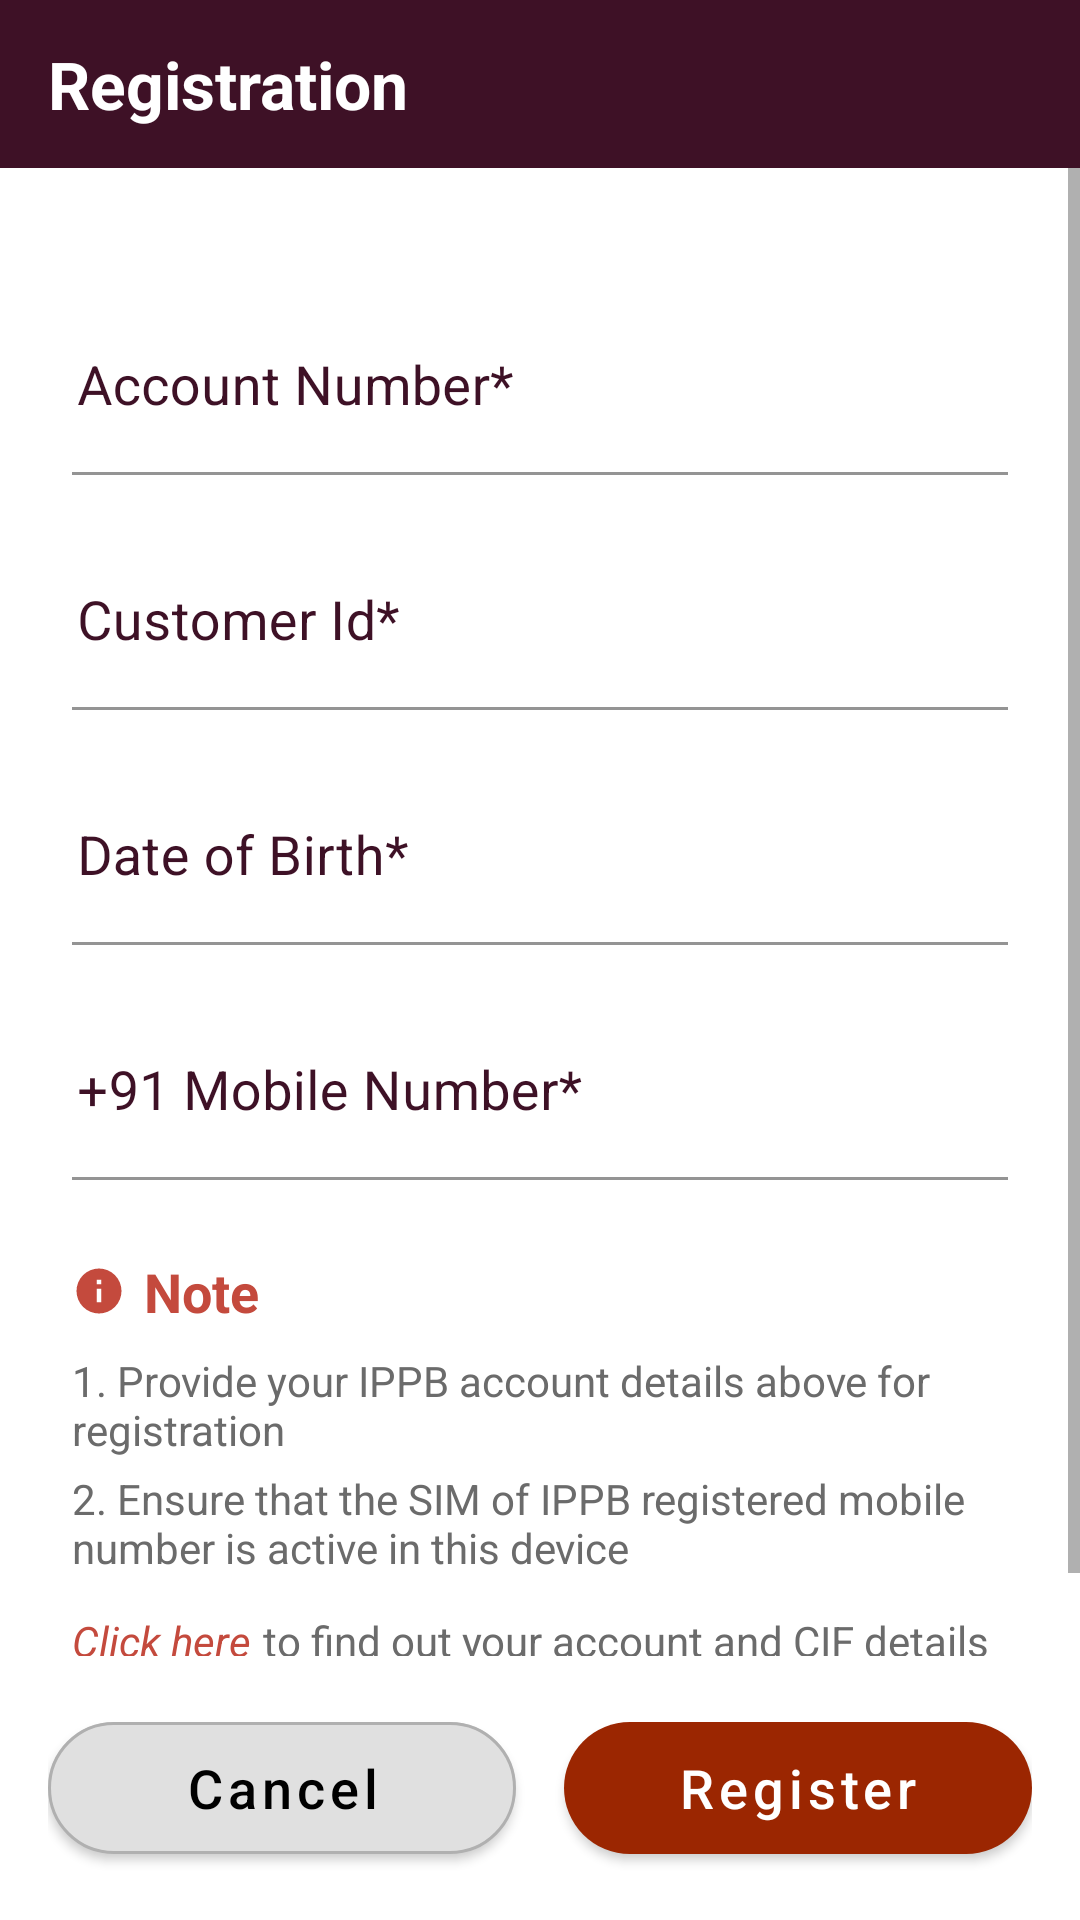

Named icons in this screenshot (1080 x 1920) and their centers, (x,y):
info: (99,1291)
